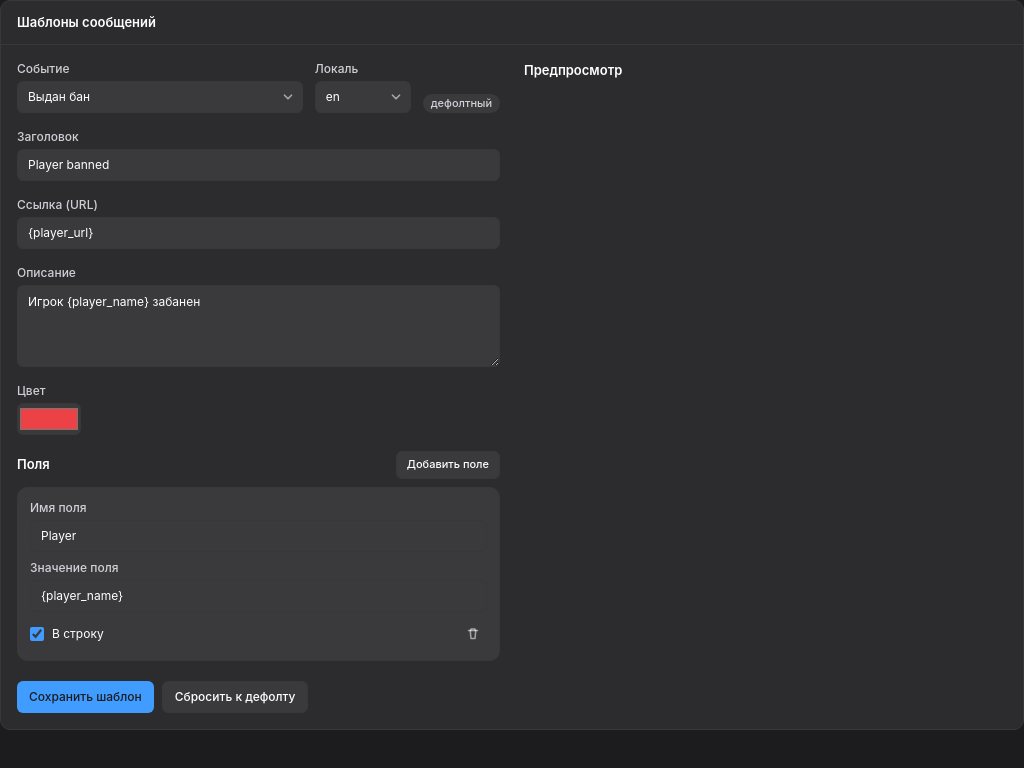
Test: DiscordTemplatesSection › PUTs the full embed object and re-renders from the response
Expected: the text "дефолтный" is shown, [423,94,500,113]
Replace the text in the field labelled "Заголовок" with "Бан выдан" at [258, 165], box [17,149,500,181]
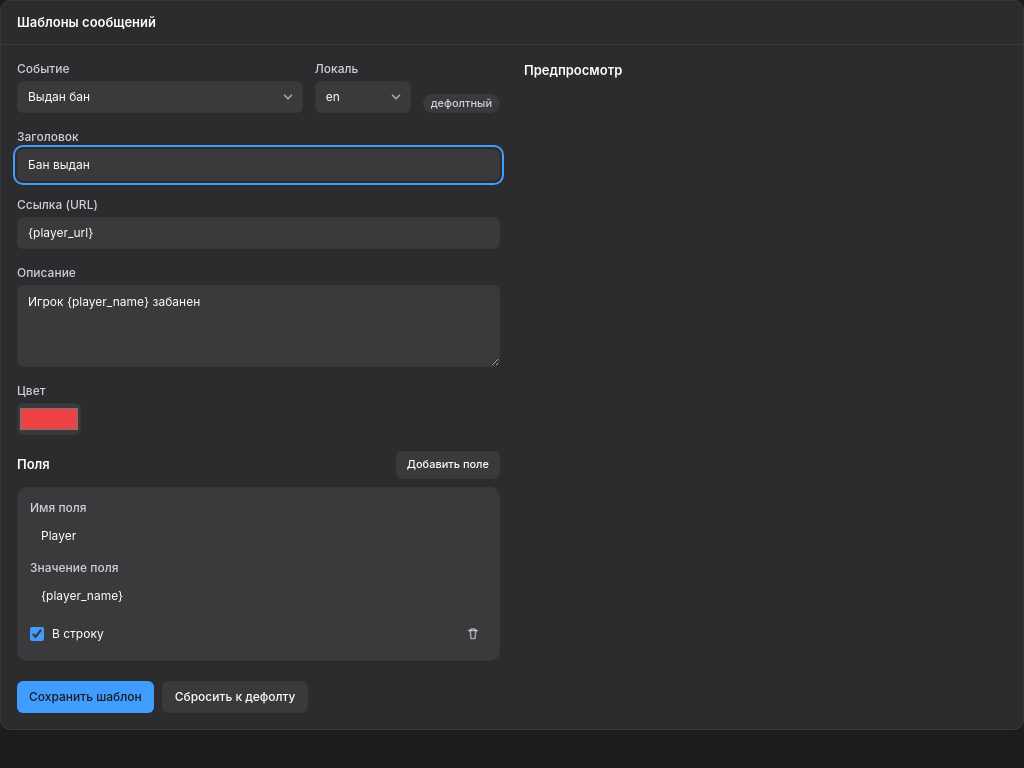
Click the button "Сохранить шаблон" at [85, 697], box [17,681,154,713]
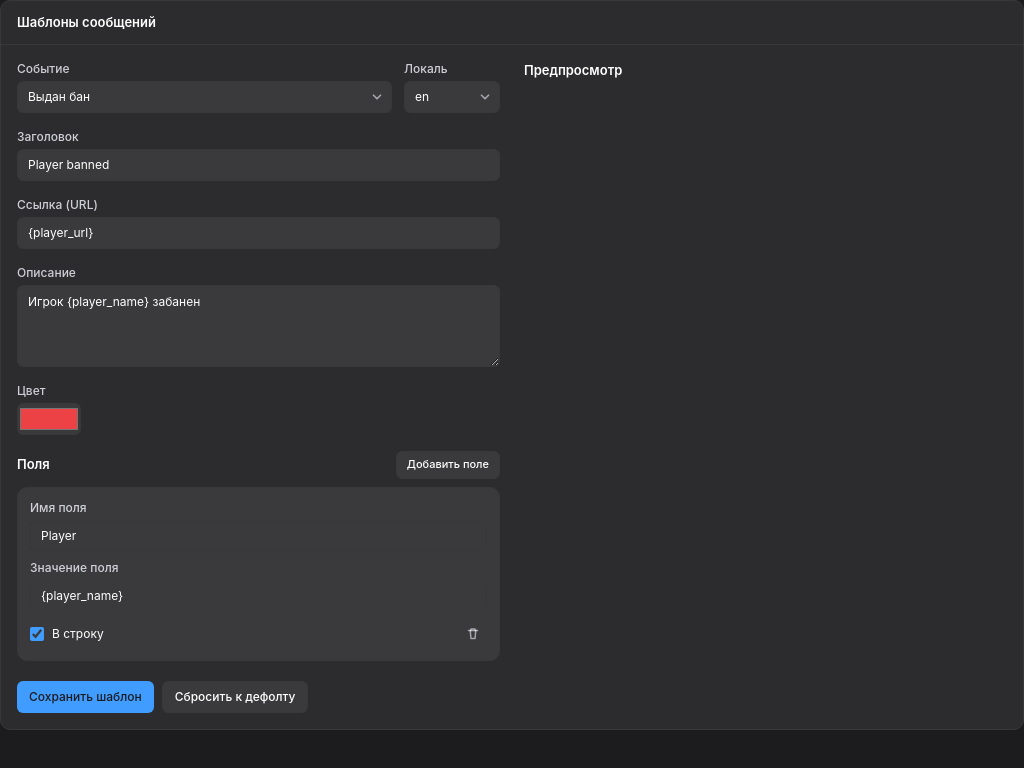
Expected: the text "дефолтный" is gone
